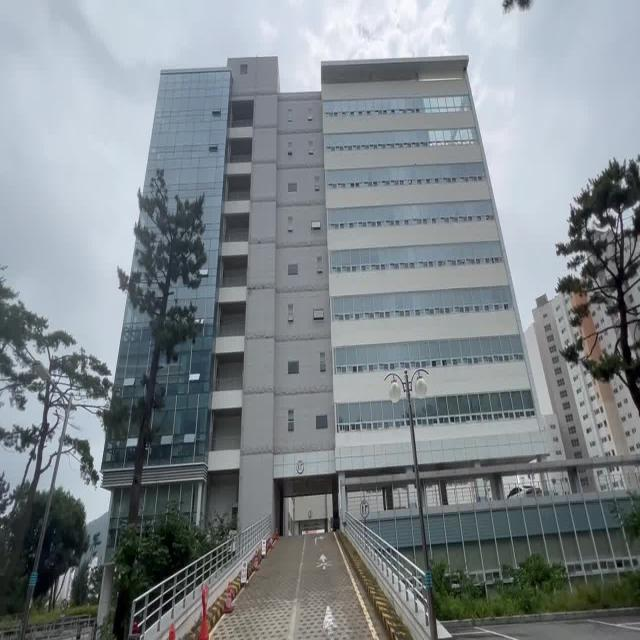building: (190, 41, 524, 494)
